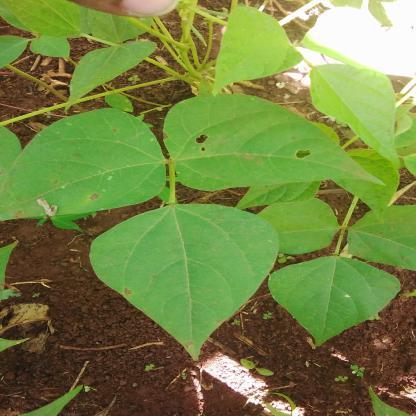Beans_Angular_LeafSpot: (95, 210, 277, 364), (162, 92, 356, 193), (7, 118, 166, 224)
